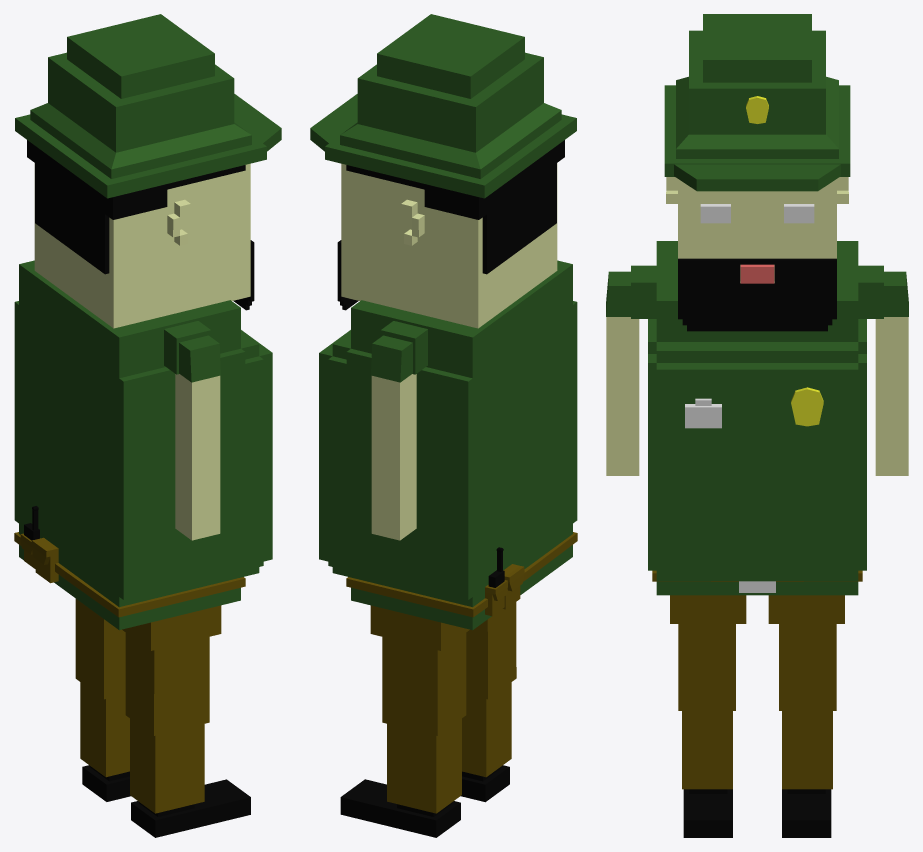
The model's file is Security_1_v5.fbx.
3 renders of one model, left to right at view 1: azimuth 30°, elevation 25°; view 2: azimuth 150°, elevation 25°; view 3: azimuth 270°, elevation 25°, orthographic.
Parts seen in each view (by area): view 1: Character, Hat, head, Cube.010, Cube.001, Cube.007, Cube.004, Cube.005, Cube.008, RightLeg, Cube.009, Cube.006 (+1 smaller); view 2: Character, Hat, head, Cube.003, Cube.004, Cube.005, Cube.001, Cube.007, Cube.006, LeftLeg, Cube.002, Cube.008 (+1 smaller); view 3: Character, Hat, head, Cube.003, Cube.010, Cube.004, Cube.001, Cube.005, Cube.007, Cube.006, Cube.008, LeftLeg (+5 smaller).
Boxes of the visible parts, x1,y1,x2,y2 form: Character: [14, 260, 272, 630]; Hat: [15, 14, 281, 198]; head: [27, 140, 254, 328]; Cube.010: [175, 374, 220, 540]; Cube.001: [125, 633, 209, 735]; Cube.007: [130, 718, 204, 813]; Cube.004: [75, 599, 125, 699]; Cube.005: [80, 682, 129, 777]; Cube.008: [131, 779, 250, 837]; RightLeg: [122, 605, 221, 650]; Cube.009: [179, 335, 220, 382]; Cube.006: [82, 765, 130, 801]; Character: [319, 260, 577, 630]; Hat: [310, 14, 576, 198]; head: [337, 140, 564, 328]; Cube.003: [371, 374, 416, 540]; Cube.004: [382, 633, 466, 735]; Cube.005: [387, 718, 461, 813]; Cube.001: [466, 602, 516, 699]; Cube.007: [462, 682, 511, 777]; Cube.006: [340, 779, 460, 837]; LeftLeg: [370, 605, 469, 650]; Cube.002: [371, 335, 412, 382]; Cube.008: [460, 765, 509, 802]; Character: [648, 241, 866, 595]; Hat: [664, 14, 850, 191]; head: [666, 177, 848, 331]; Cube.003: [875, 317, 908, 475]; Cube.010: [606, 317, 639, 475]; Cube.004: [779, 624, 836, 710]; Cube.001: [678, 624, 735, 710]; Cube.005: [782, 711, 832, 789]; Cube.007: [682, 711, 732, 789]; Cube.006: [782, 789, 831, 837]; Cube.008: [683, 789, 732, 837]; LeftLeg: [768, 595, 844, 623].
Bounding box in the file's own units: 225 × 838 × 301.
